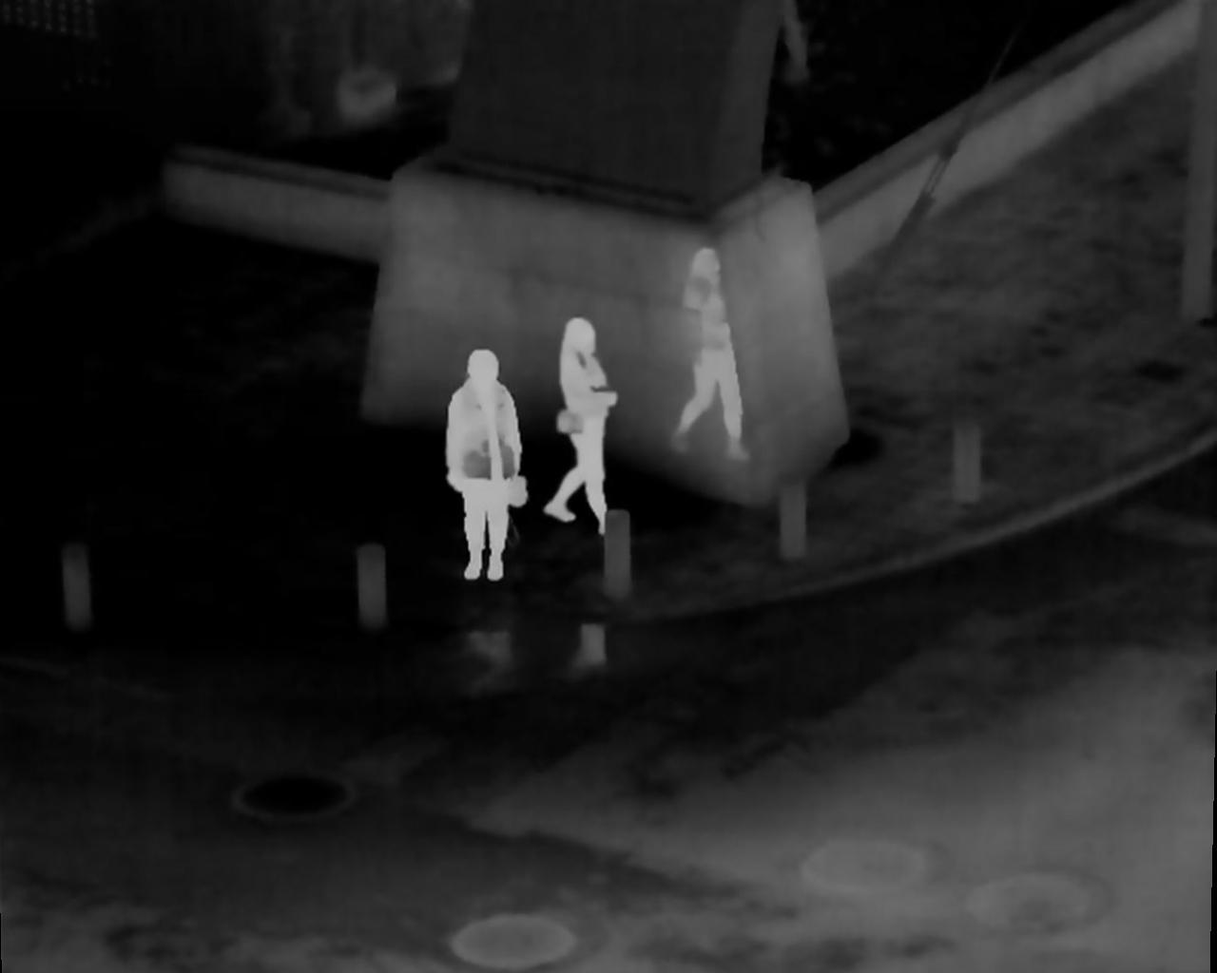person: (445, 349, 522, 582), (669, 247, 740, 463), (550, 322, 615, 535)
